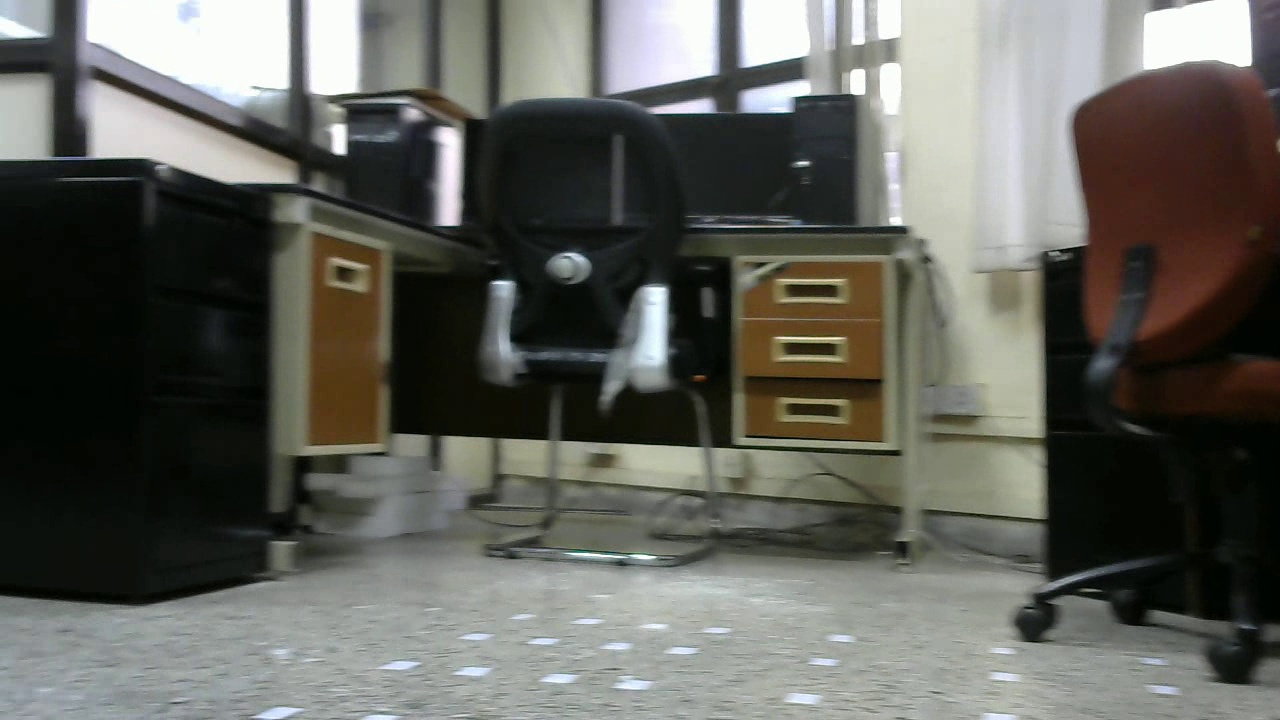chair: (1013, 63, 1280, 682), (465, 97, 725, 569)
